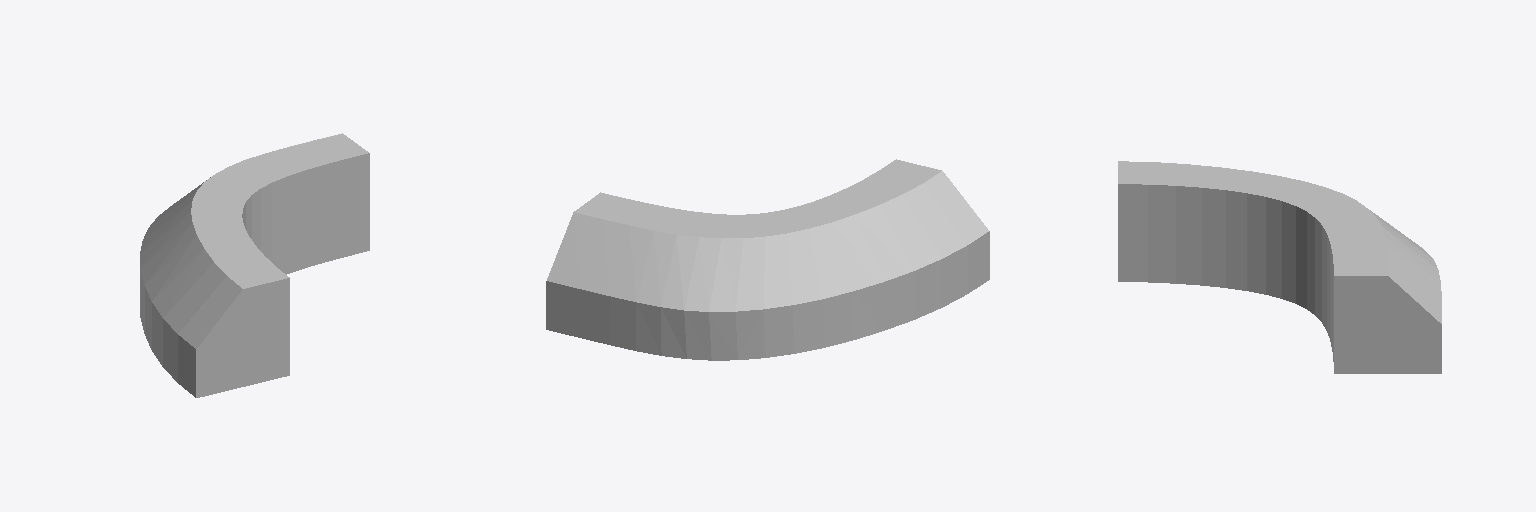
The model's file is InsideBend.obj.
3 views of the same model, side by side, from view 1: azimuth 30°, elevation 25°; view 2: azimuth 150°, elevation 25°; view 3: azimuth 270°, elevation 25° (orthographic).
Parts seen in each view (by area): view 1: InsideBend1; view 2: InsideBend1; view 3: InsideBend1.
Boxes of the visible parts, x1=… form: InsideBend1: x1=140, y1=133, x2=369, y2=397; InsideBend1: x1=546, y1=159, x2=989, y2=360; InsideBend1: x1=1118, y1=161, x2=1441, y2=373.
Size of the model in its own units: 3.01 by 1 by 3.